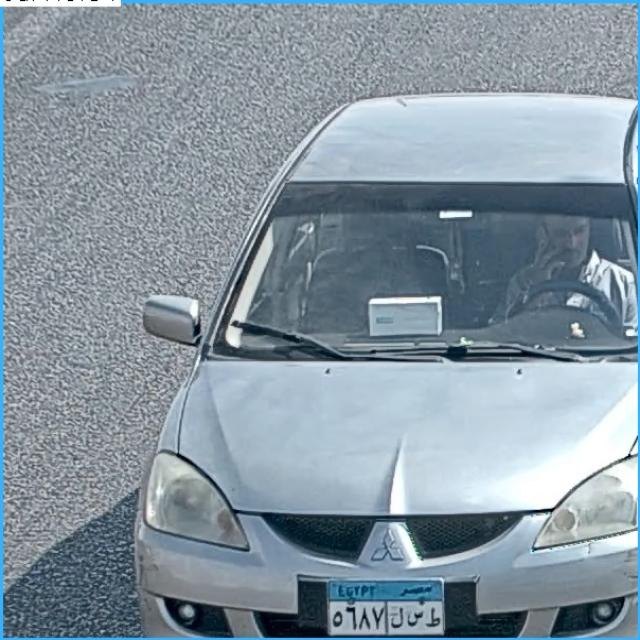windshield: (213, 187, 633, 347)
